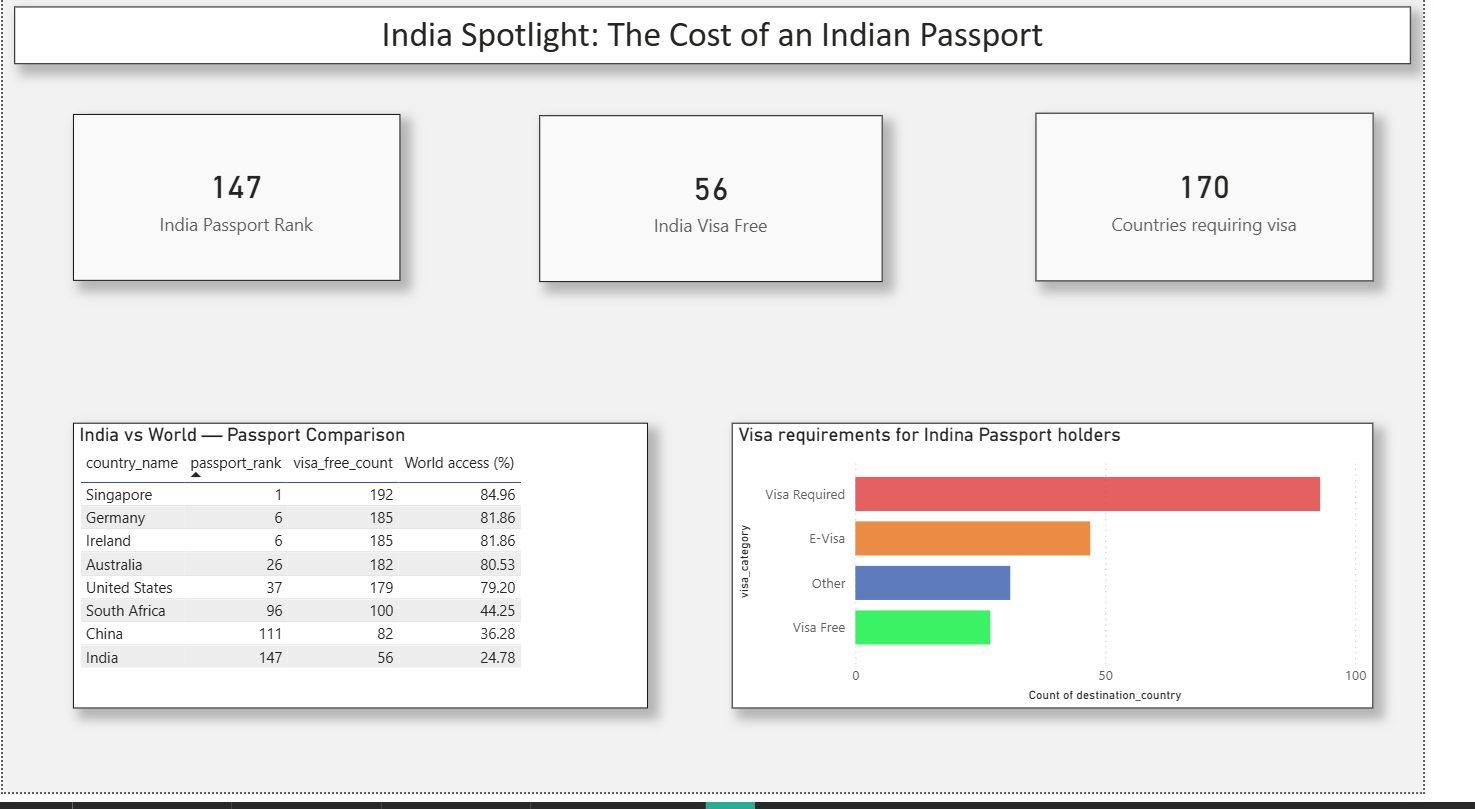

What the dashboard file says about the page in this screenshot:
{"tool":"powerbi","page":{"name":"India spotlight","canvas":[1280,720],"ordinal":1},"visuals":[{"type":"textbox","box":[10.5,11.6,1259.3,52.3],"z":0},{"type":"card","fields":{"Values":["public dim_economy.India Visa Free"]},"box":[483.9,109.5,309.7,150.5],"z":1000},{"type":"card","fields":{"Values":["public dim_economy.India Rank"]},"box":[63.4,108.2,294.8,150.5],"z":2000},{"type":"card","fields":{"Values":["public dim_economy.India Visa Required"]},"box":[930.5,107,304.8,151.8],"z":3000},{"type":"clusteredBarChart","title":"Visa requirements for Indina Passport holders","fields":{"Category":["public fact_visa_requirements.visa_category"],"Y":["Count(public fact_visa_requirements.destination_country)"]},"box":[656.8,386.9,578.4,257.5],"z":4000},{"type":"tableEx","title":"India vs World — Passport Comparison","fields":{"Values":["public dim_passport.country_name","public dim_passport.passport_rank","public dim_passport.visa_free_count","public dim_passport.visa_free_pct"]},"box":[63.4,386.9,518.7,257.5],"z":5000}]}

Visuals, with their boxes in screenshot pixels (x1, y1, x2, y2), scaled from the page's 1280x720 canvas onto the 1475x809 screenshot:
textbox: {"left": 12, "top": 13, "right": 1463, "bottom": 72}
card - public dim_economy.India Visa Free: {"left": 558, "top": 123, "right": 914, "bottom": 292}
card - public dim_economy.India Rank: {"left": 73, "top": 122, "right": 413, "bottom": 291}
card - public dim_economy.India Visa Required: {"left": 1072, "top": 120, "right": 1423, "bottom": 291}
"Visa requirements for Indina Passport holders" clusteredBarChart: {"left": 757, "top": 435, "right": 1423, "bottom": 724}
"India vs World — Passport Comparison" tableEx: {"left": 73, "top": 435, "right": 671, "bottom": 724}
